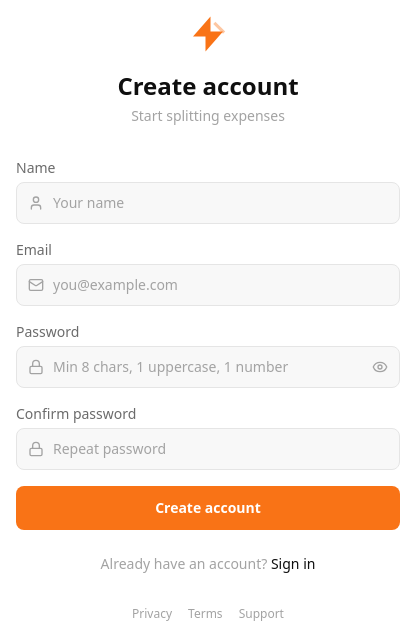
Scenario: RegisterPage registration flow and confirmation UI › renders registration form and submits successfully requiring confirmation
The image size is (417, 638).
Type "Jane Doe" into the field labelled "Name" at (208, 203), box [16, 182, 400, 224]
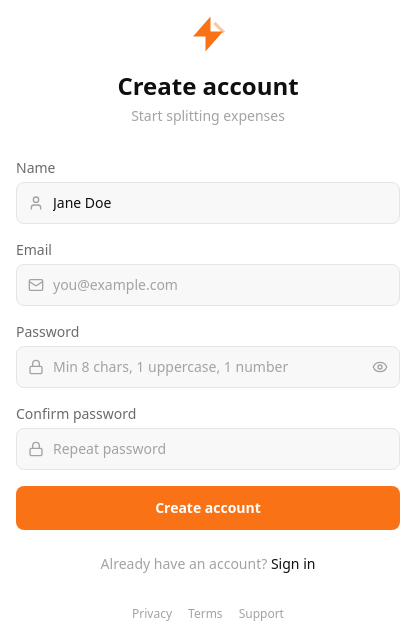
Type "jane@example.com" into the field labelled "Email" at (208, 285), box [16, 264, 400, 306]
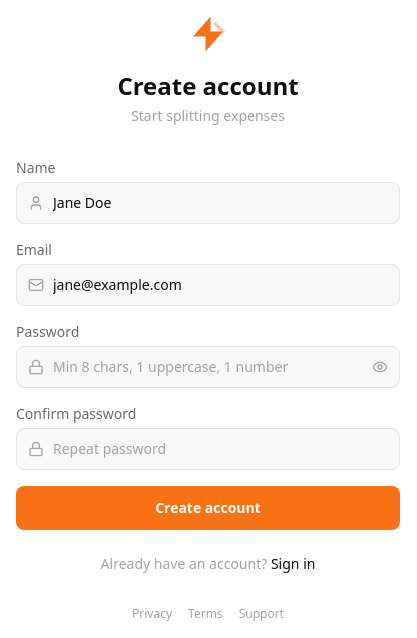
Type "Secret123" into the password field labelled "Password" at (208, 367), box [16, 346, 400, 388]
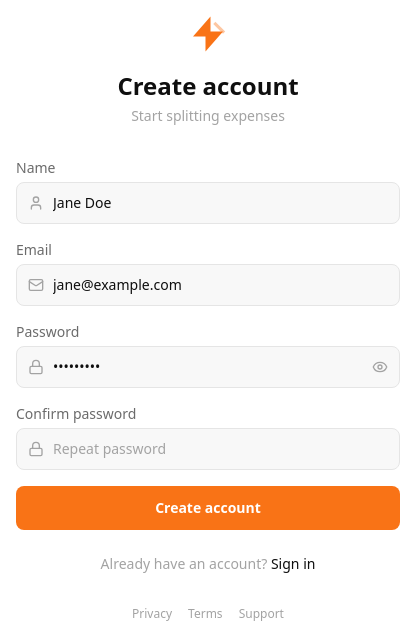
Type "Secret123" into the password field labelled "Confirm password" at (208, 449), box [16, 428, 400, 470]
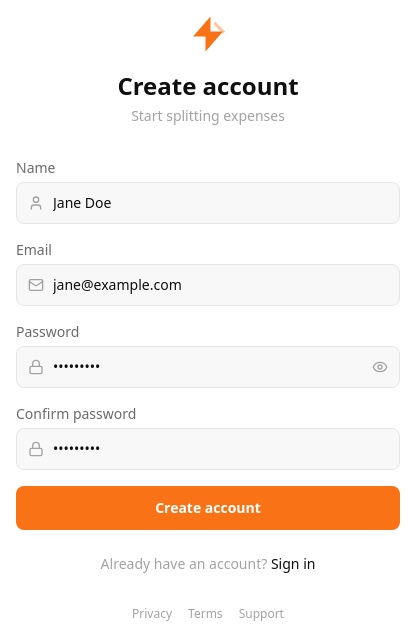
Click the button "Create account" at (208, 508), box [16, 486, 400, 530]
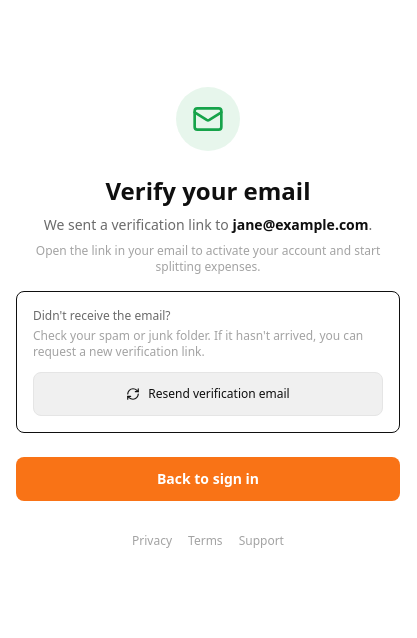
Expected: the heading "Verify your email" is shown, [106, 174, 310, 207]
Expected: the text "jane@example.com" is shown, [232, 215, 368, 234]
Expected: the text "Check your spam or junk folder" is shown, [33, 327, 363, 360]
